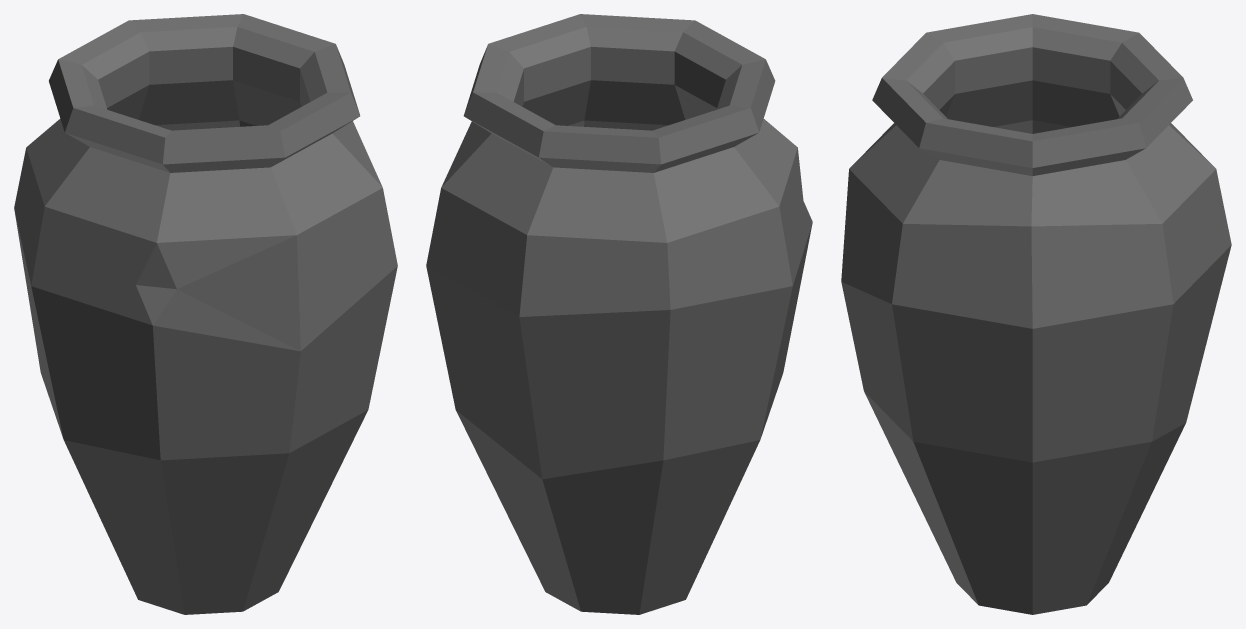
The model's file is SM_Gen_Prop_Pot_03.glb.
3 views of the same model, side by side, from view 1: azimuth 30°, elevation 25°; view 2: azimuth 150°, elevation 25°; view 3: azimuth 270°, elevation 25° (orthographic).
Visible parts, largest first — view 1: SM_Gen_Prop_Pot_03; view 2: SM_Gen_Prop_Pot_03; view 3: SM_Gen_Prop_Pot_03.
Boxes of the visible parts, bbox=[...] form: SM_Gen_Prop_Pot_03: bbox=[14, 14, 397, 614]; SM_Gen_Prop_Pot_03: bbox=[426, 14, 812, 614]; SM_Gen_Prop_Pot_03: bbox=[841, 14, 1231, 614].
Bounding box in the file's own units: 0.6053 × 0.8472 × 0.5937.
Materials: 1 (1 with a texture image).
